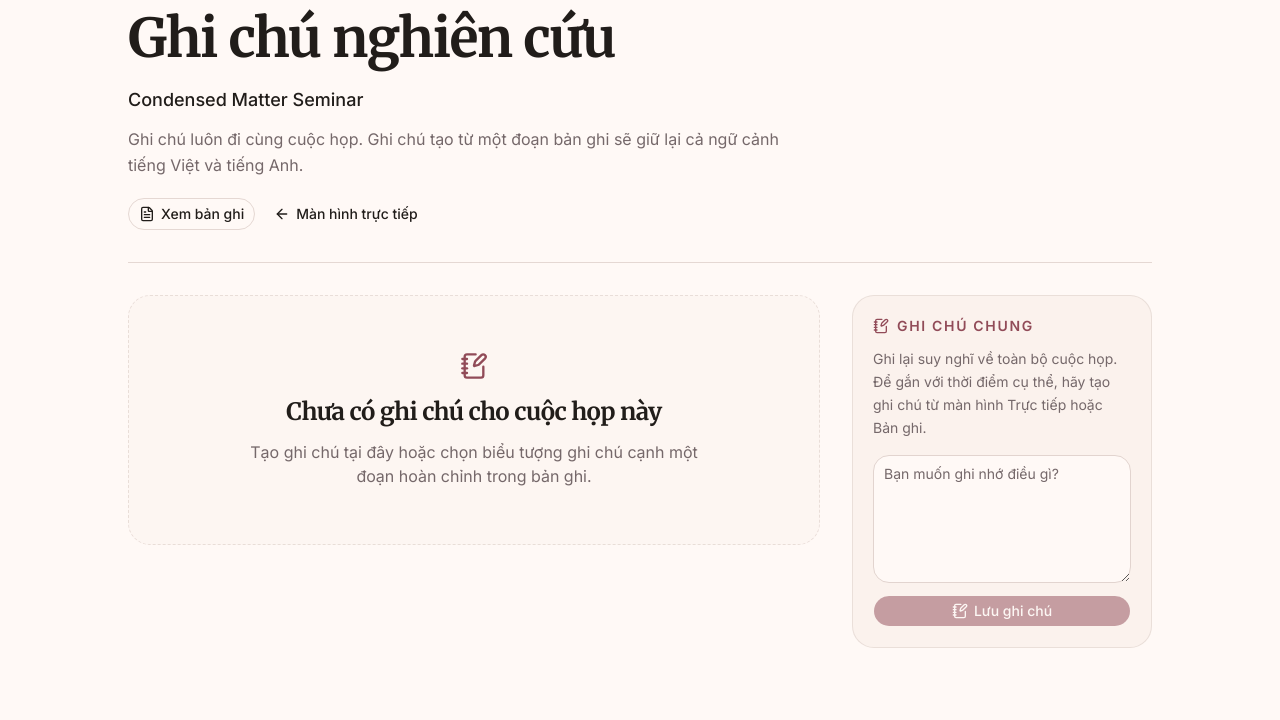
Test case: NotesPage › creates a meeting-level research note
(page scrolled)
Check: the heading "Chưa có ghi chú cho cuộc họp này" is shown, box [286, 396, 662, 427]
In the text box named "Ghi chú chung mới": [1002, 519] box [873, 455, 1131, 583], type "Compare this argument with the uploaded paper."
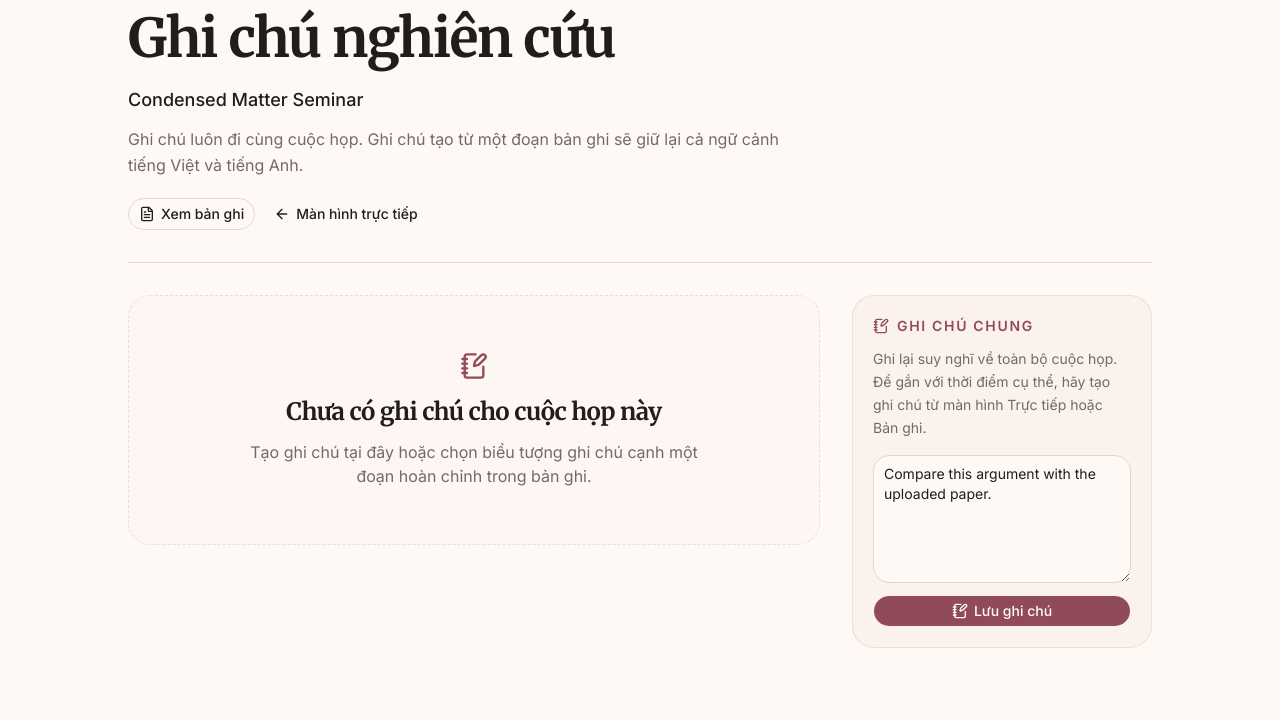
Click the button "Lưu ghi chú": [1002, 611] box [873, 595, 1131, 627]
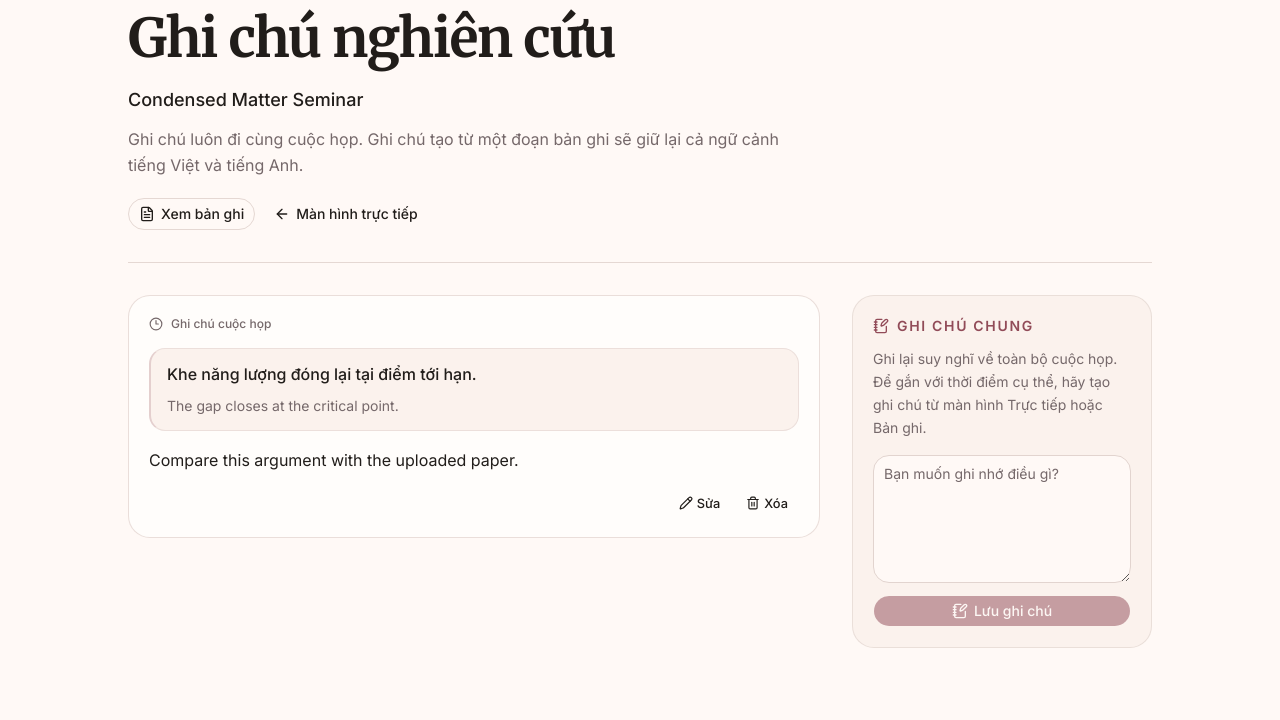
Check: the text "Compare this argument with the uploaded paper." is shown, box [149, 450, 519, 470]
